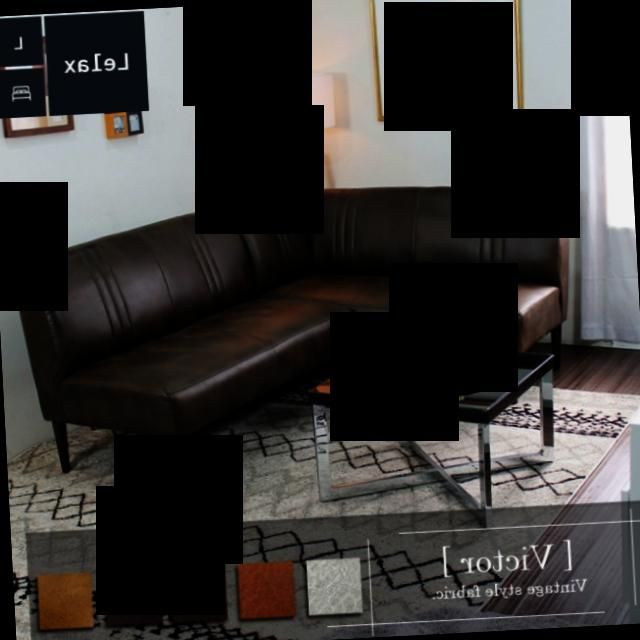vintage desk: (298, 335, 562, 540)
vintage sofa: (16, 168, 582, 493)
